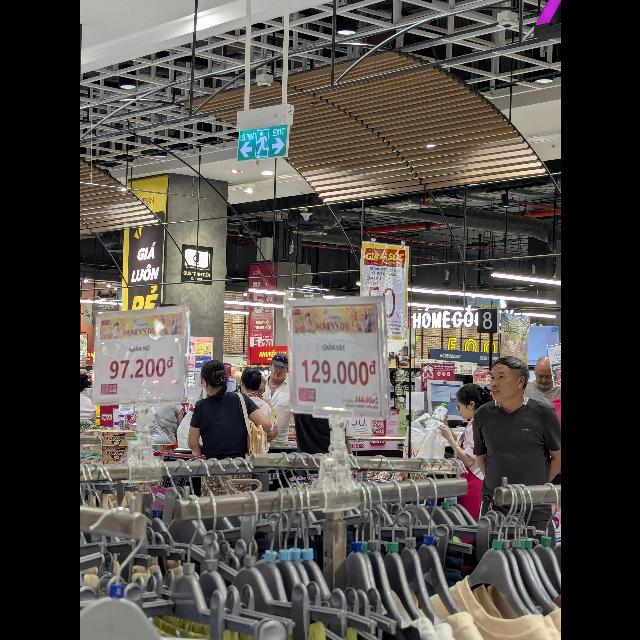exit: (236, 124, 288, 162)
